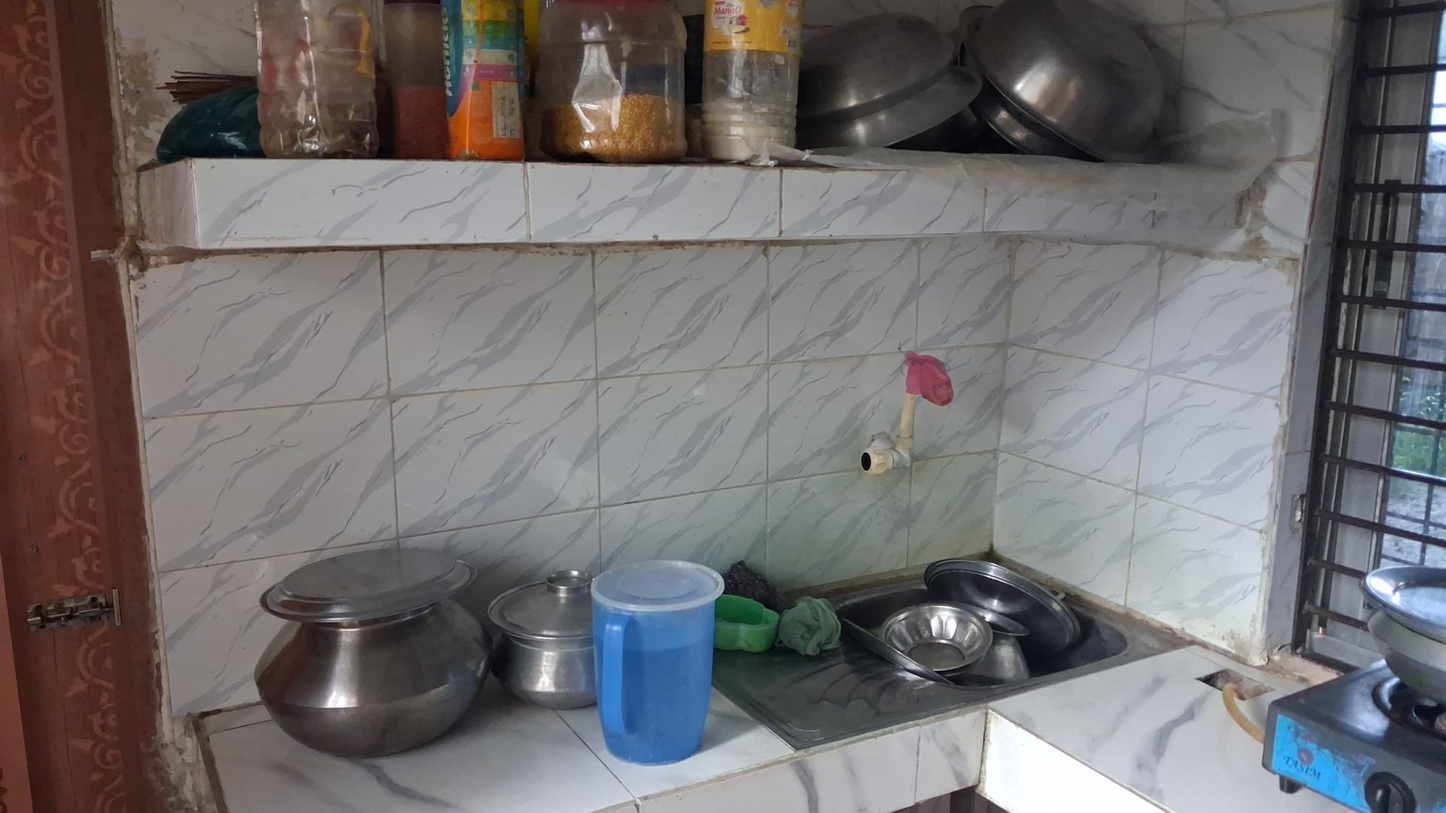Bowl: (881, 600, 988, 672)
Jar: (533, 0, 689, 165), (249, 10, 379, 150), (694, 1, 805, 163), (438, 12, 533, 165), (713, 593, 781, 653)
Jug: (592, 564, 720, 765)
Pot: (251, 544, 494, 748), (497, 574, 619, 706)
